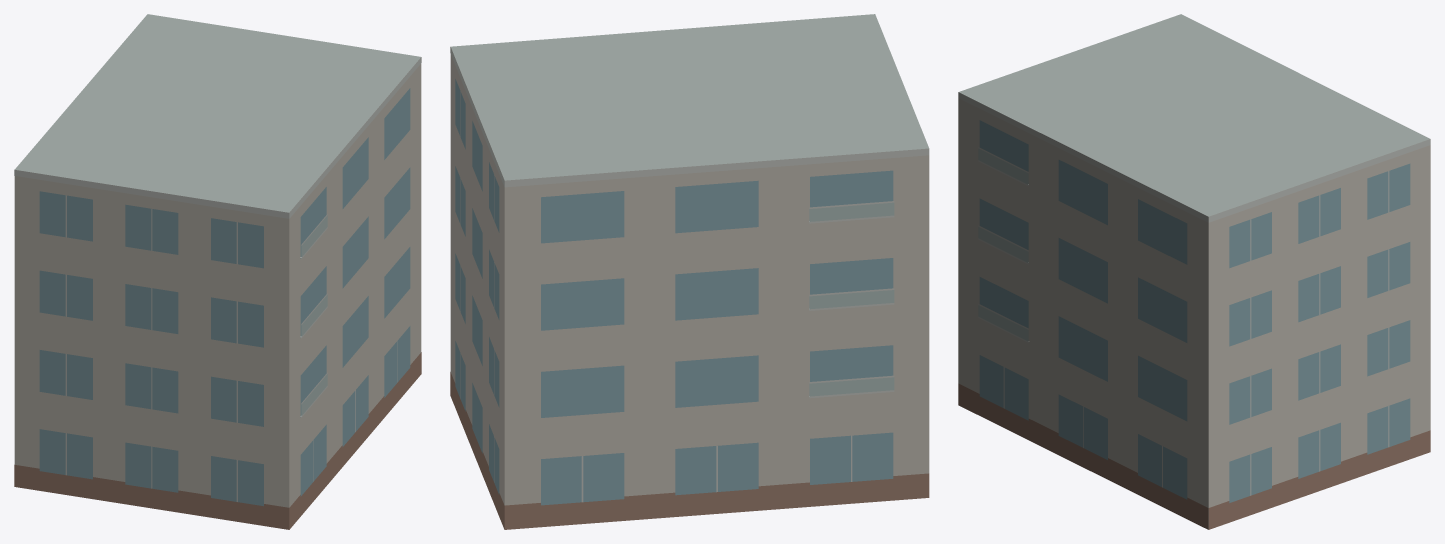
File: survey-upis-32744299.glb
The picture shows the model from 3 angles, left to right: view 1: azimuth 30°, elevation 25°; view 2: azimuth 150°, elevation 25°; view 3: azimuth 270°, elevation 25°; orthographic projection. The views are drawn at different scales.
Visible parts, largest first — view 1: survey-upis-32744299.tmp; view 2: survey-upis-32744299.tmp; view 3: survey-upis-32744299.tmp.
Boxes of the visible parts, box(x1,y1,x2,y2) form: survey-upis-32744299.tmp: box(14, 14, 421, 529); survey-upis-32744299.tmp: box(450, 14, 929, 529); survey-upis-32744299.tmp: box(958, 14, 1430, 529).
Bounding box in the file's own units: 17.51 × 12.6 × 17.23.
